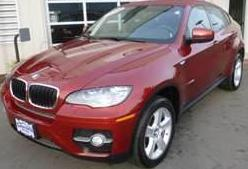front_view: (2, 75, 147, 164)
headlight: (60, 84, 135, 111)
side_glass: (180, 4, 234, 43)
